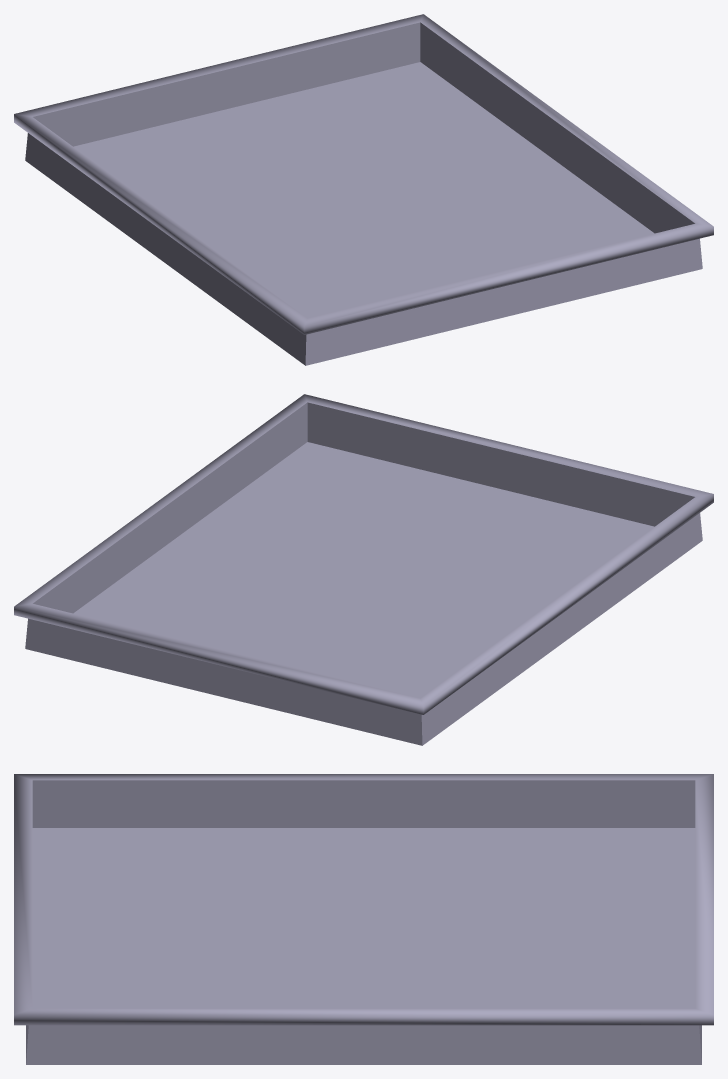
File: Forma.fbx
3 renders of one model, top to bottom at view 1: azimuth 30°, elevation 25°; view 2: azimuth 150°, elevation 25°; view 3: azimuth 270°, elevation 25°, orthographic. The views are drawn at different scales.
Parts seen in each view (by area): view 1: Forma; view 2: Forma; view 3: Forma.
Part boxes in pixels (x1,y1,x2,y2): Forma: (14, 14, 713, 365); Forma: (14, 394, 713, 745); Forma: (14, 774, 713, 1064).
Size of the model in its own units: 302 by 31.33 by 371.
